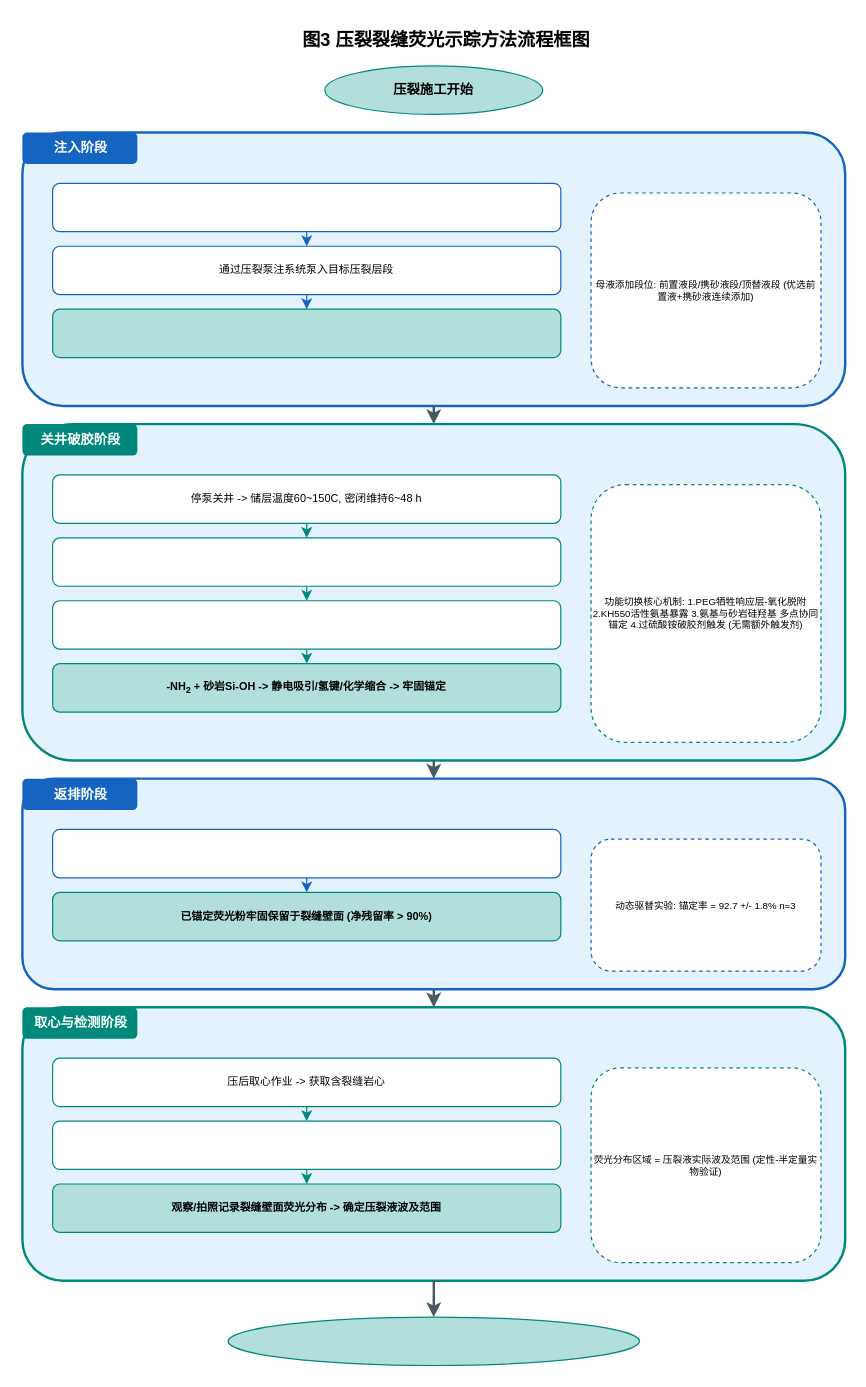
This 866x1387 diagram has some shape labels left out. Here are the shapes that lost their labels. From the top down, the box of each, then its label:
(51, 182, 561, 232): 荧光压裂液终液 + 支撑剂 混合
(51, 308, 561, 358): 荧光粉随携砂液运移至水力裂缝各处 (分散态)
(51, 537, 561, 586): 过硫酸铵热分解 -> SO 4 .- 攻击PEG醚键 -> 氧化链断裂
(51, 600, 561, 649): PEG外层脱附降解 -> 暴露KH550活性氨基(-NH 2 )
(51, 828, 561, 878): 开井返排 -> 携带破胶残渣及未锚定游离荧光粉排出井筒
(51, 1120, 561, 1169): 紫外光源365 nm照射 -> 绿色荧光发射(~520 nm)
(227, 1316, 639, 1365): 获得压裂裂缝的可实物验证荧光标记
